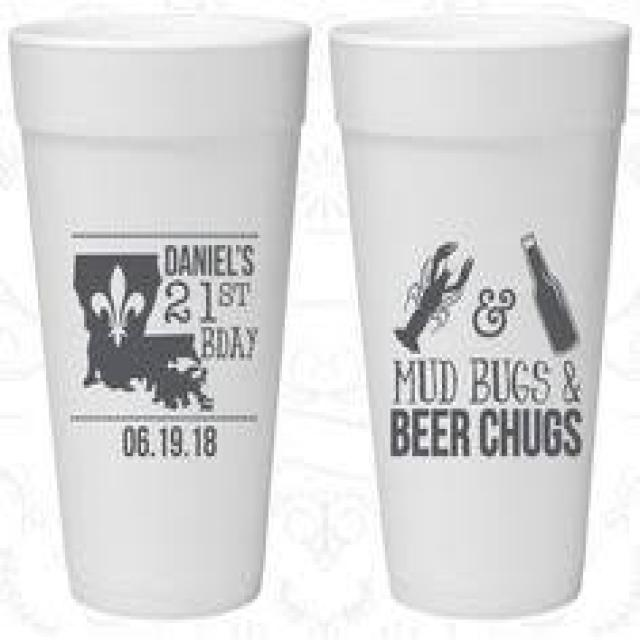cup: (6, 11, 310, 632), (332, 15, 624, 622)
